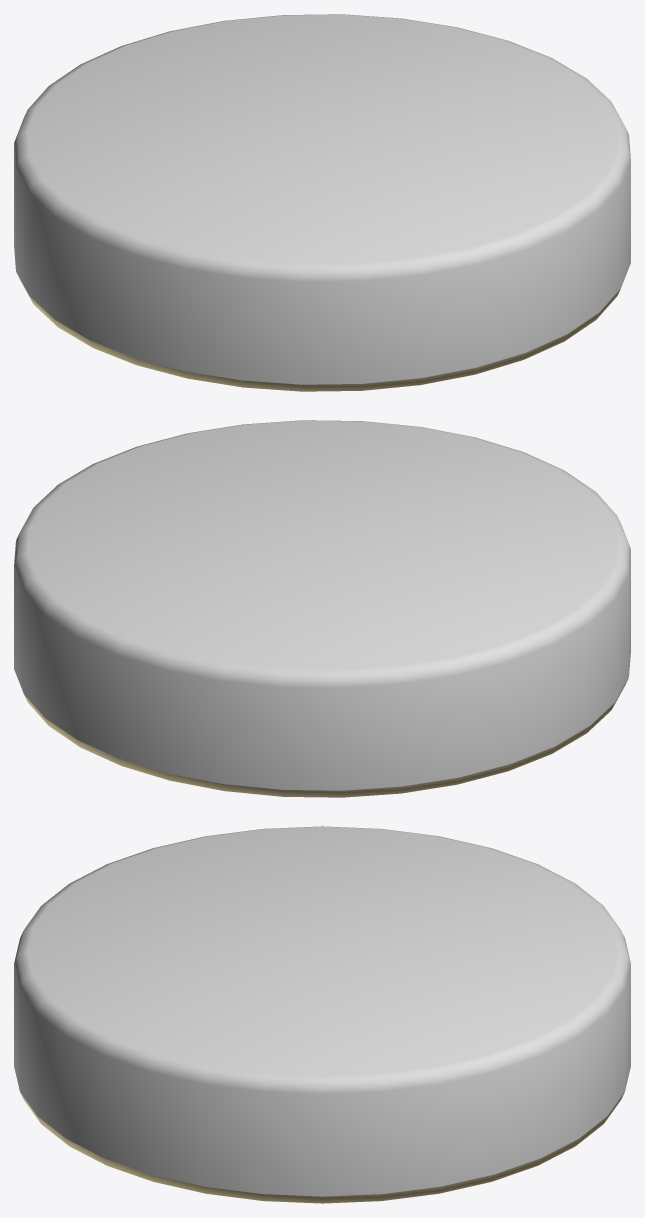
The picture shows the model from 3 angles, top to bottom: view 1: azimuth 30°, elevation 25°; view 2: azimuth 150°, elevation 25°; view 3: azimuth 270°, elevation 25°; orthographic projection.
Parts seen in each view (by area): view 1: Cylinder.003, Cylinder.007; view 2: Cylinder.003, Cylinder.007; view 3: Cylinder.003, Cylinder.007.
Boxes of the visible parts, x1,y1,x2,y2 form: Cylinder.003: (14, 14, 630, 384); Cylinder.007: (17, 274, 620, 391); Cylinder.003: (14, 420, 630, 790); Cylinder.007: (24, 680, 627, 797); Cylinder.003: (14, 826, 630, 1196); Cylinder.007: (20, 1092, 624, 1203).
Bounding box in the file's own units: 275 × 62.39 × 275.
